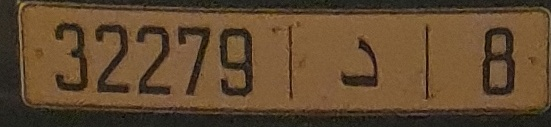2: (134, 24, 172, 97), (93, 22, 129, 94)
3: (52, 21, 88, 93)
7: (176, 24, 211, 96)
8: (481, 25, 517, 97)
9: (217, 26, 255, 98)
d: (335, 34, 382, 91)
